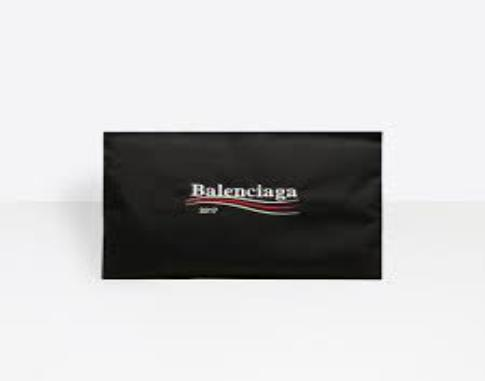BALENCIAGA: (185, 179, 299, 218)
